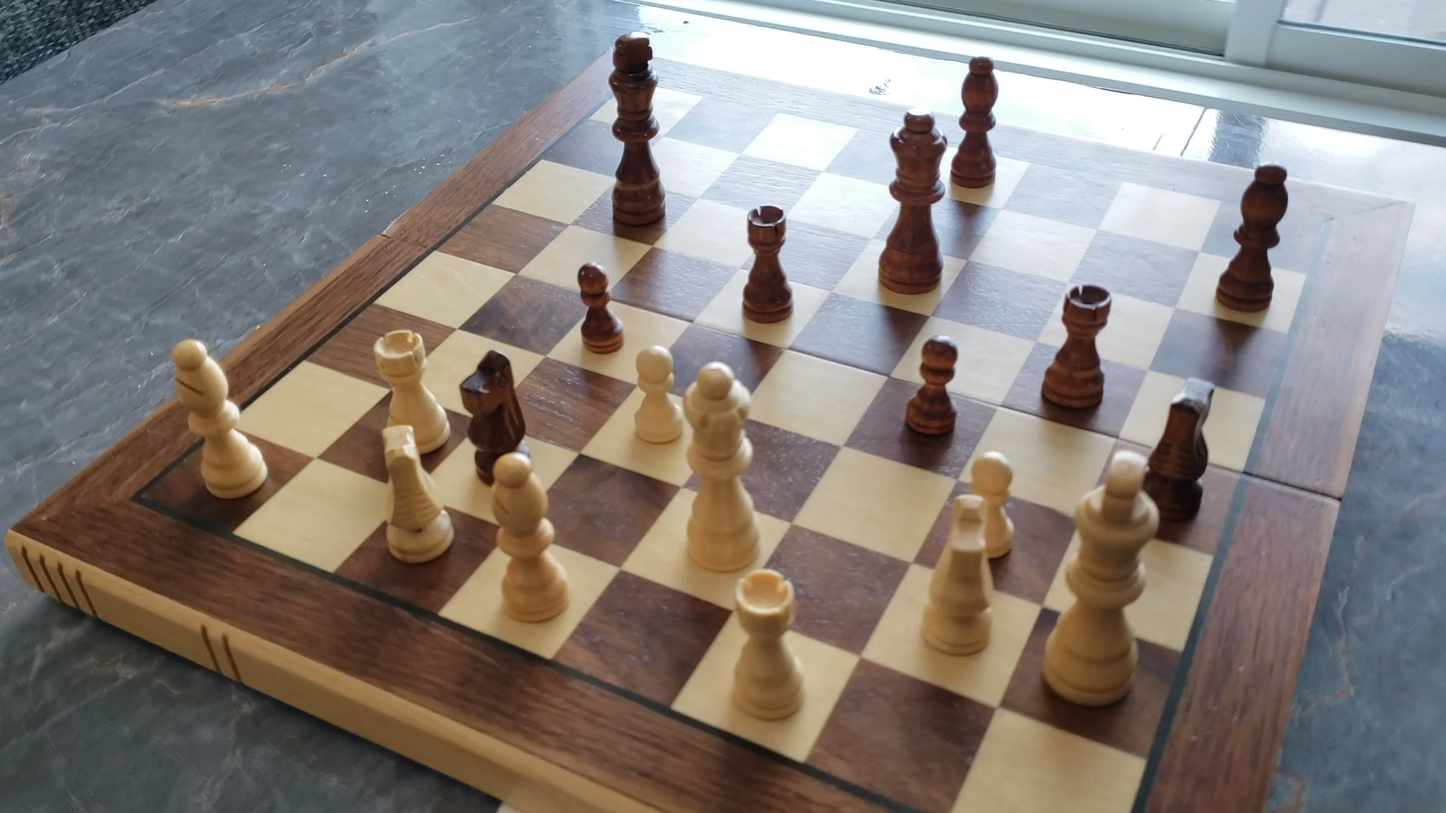black-bishop: (1214, 160, 1292, 313), (949, 51, 1000, 190)
black-king: (590, 32, 676, 237)
black-knight: (1140, 374, 1219, 522), (459, 346, 531, 484)
black-pawn: (903, 332, 962, 439), (573, 259, 625, 356)
black-queen: (877, 106, 950, 297)
black-rook: (1040, 281, 1113, 410), (740, 202, 794, 324)
white-bishop: (164, 334, 272, 504), (484, 449, 575, 627)
white-king: (1035, 448, 1170, 718)
white-knight: (916, 491, 1001, 661), (374, 422, 458, 569)
white-pawn: (966, 445, 1021, 560), (628, 340, 686, 448)
white-queen: (675, 355, 766, 579)
white-rook: (721, 565, 812, 727), (370, 325, 454, 460)
